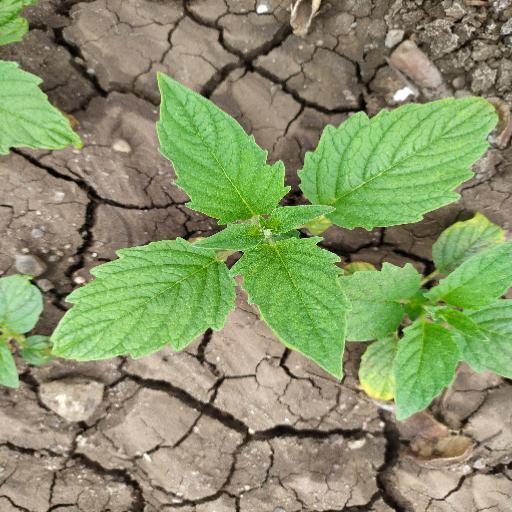crop: (53, 80, 506, 379)
